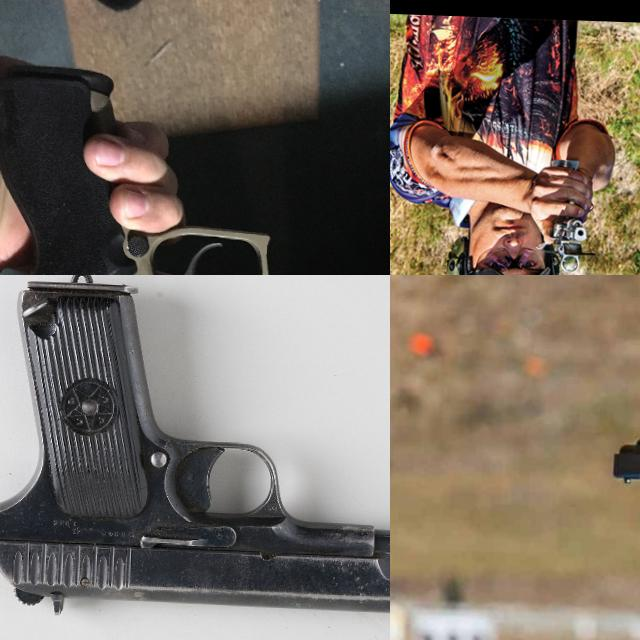handgun: (0, 275, 390, 634), (0, 59, 390, 275), (544, 211, 588, 275), (605, 429, 640, 492), (390, 231, 423, 266)
